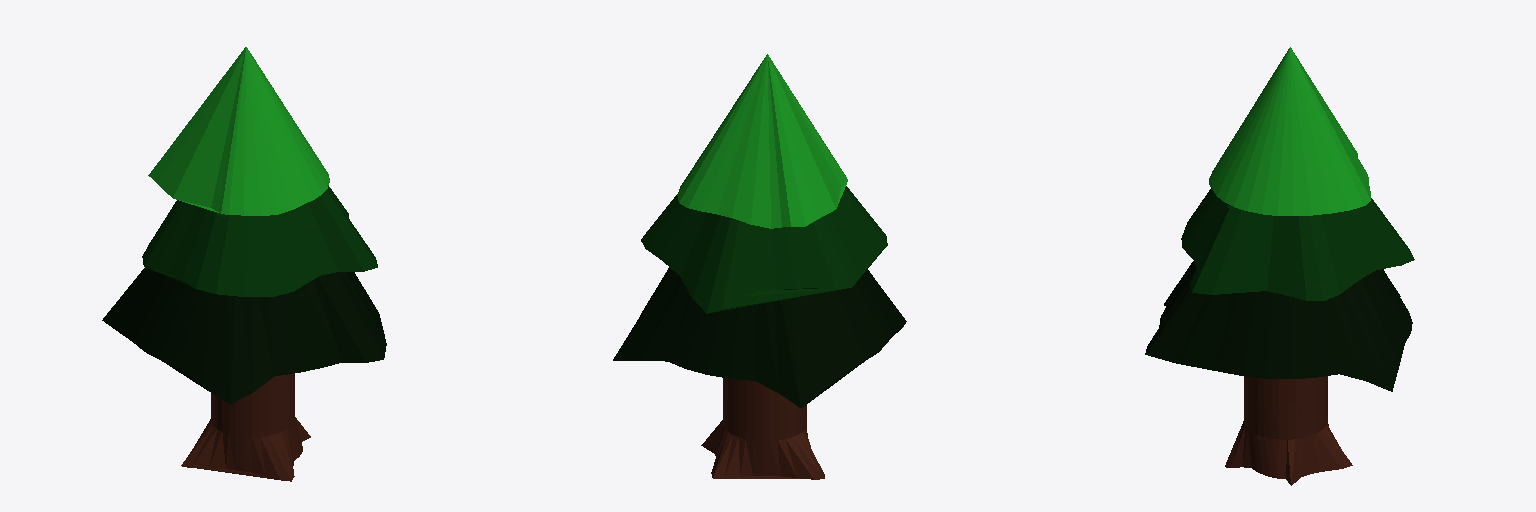
Rendered from boom2.obj.
3 views of the same model, side by side, from view 1: azimuth 30°, elevation 25°; view 2: azimuth 150°, elevation 25°; view 3: azimuth 270°, elevation 25° (orthographic).
Visible parts, largest first — view 1: cedar_tree_storage.001_Cone.000; view 2: cedar_tree_storage.001_Cone.000; view 3: cedar_tree_storage.001_Cone.000.
Part boxes in pixels (left/top/right/bottom): cedar_tree_storage.001_Cone.000: left=102, top=47, right=386, bottom=481; cedar_tree_storage.001_Cone.000: left=613, top=54, right=906, bottom=479; cedar_tree_storage.001_Cone.000: left=1145, top=47, right=1414, bottom=485.
Bounding box in the file's own units: 4.68 × 8.35 × 4.93.